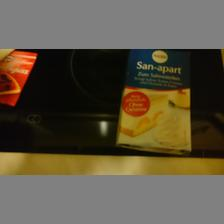Kuchen: (115, 46, 195, 154)
